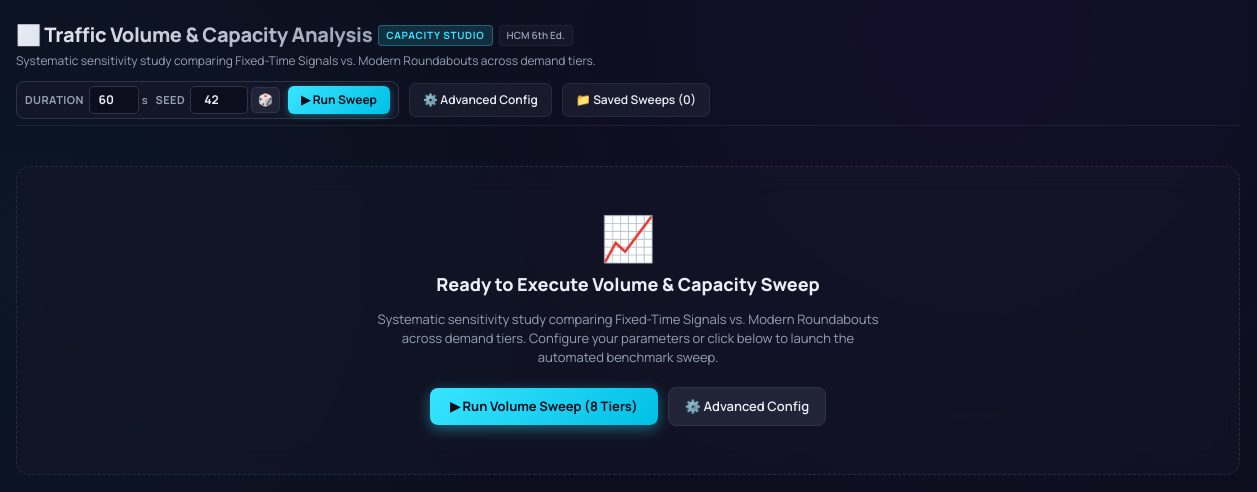
it: VolumeAnalysisDashboard › disables Run Sweep button while running
Click the button "▶ Run Sweep" at (339, 100), box [288, 86, 390, 114]
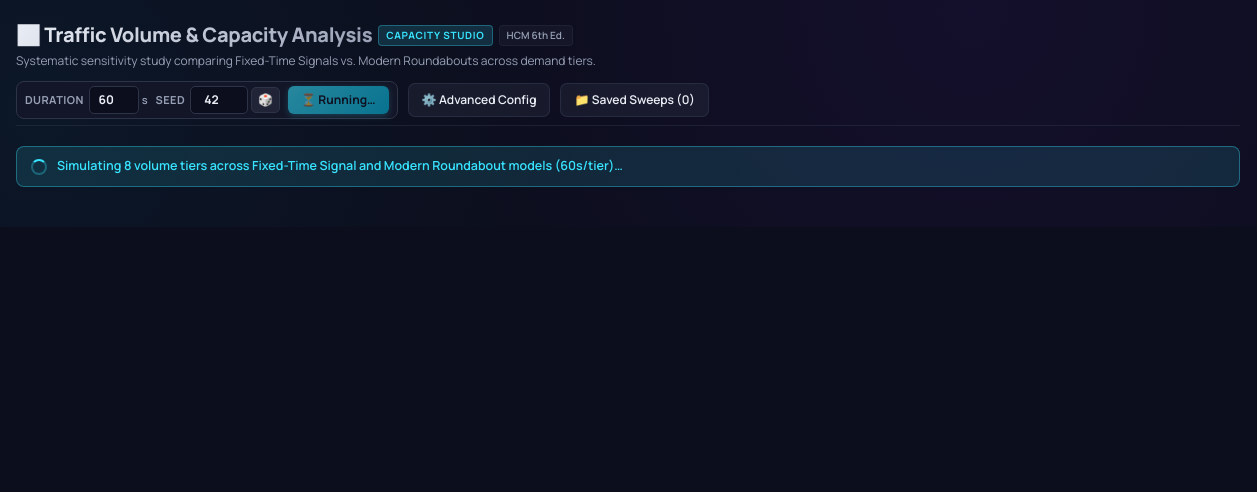
Expected: the button named "Run Sweep" is disabled, [288, 86, 389, 114]
